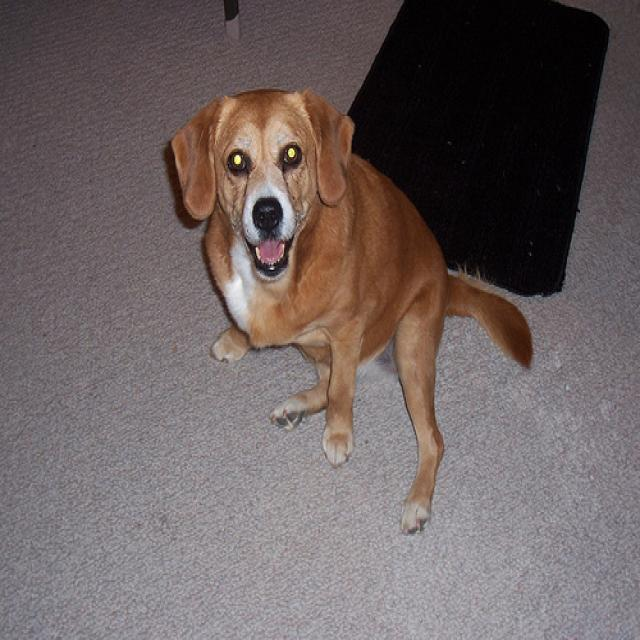dog-beagle: (165, 84, 544, 543)
